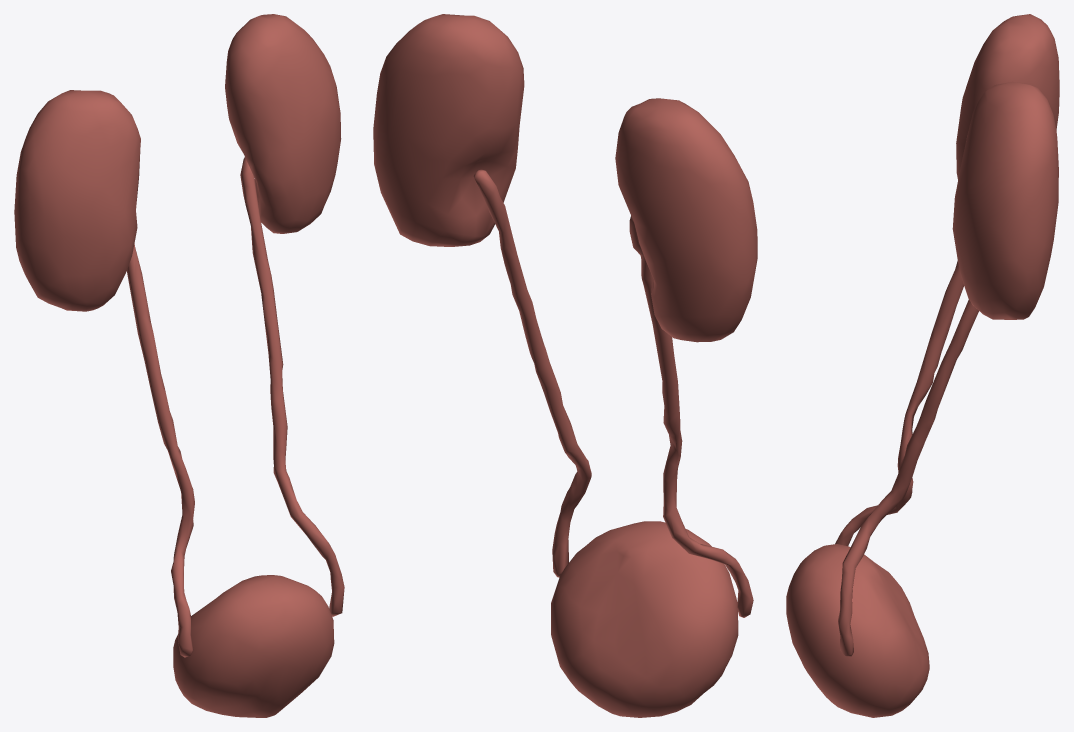
Rendered from pediatric_adolescent_female.urinary.LOD0.glb.
The picture shows the model from 3 angles, left to right: view 1: azimuth 30°, elevation 25°; view 2: azimuth 150°, elevation 25°; view 3: azimuth 270°, elevation 25°; orthographic projection. The views are drawn at different scales.
Parts seen in each view (by area): view 1: PEDIATRIC.ADOLESCENT.FEMALE.URINARY.KIDNEY_CORTEX.R, PEDIATRIC.ADOLESCENT.FEMALE.URINARY.KIDNEY_CORTEX.L, PEDIATRIC.ADOLESCENT.FEMALE.URINARY.URINARY_BLADDER_WALL, PEDIATRIC.ADOLESCENT.FEMALE.URINARY.URETER.L, PEDIATRIC.ADOLESCENT.FEMALE.URINARY.URETER.R; view 2: PEDIATRIC.ADOLESCENT.FEMALE.URINARY.URINARY_BLADDER_WALL, PEDIATRIC.ADOLESCENT.FEMALE.URINARY.KIDNEY_CORTEX.L, PEDIATRIC.ADOLESCENT.FEMALE.URINARY.KIDNEY_CORTEX.R, PEDIATRIC.ADOLESCENT.FEMALE.URINARY.URETER.L, PEDIATRIC.ADOLESCENT.FEMALE.URINARY.URETER.R; view 3: PEDIATRIC.ADOLESCENT.FEMALE.URINARY.KIDNEY_CORTEX.L, PEDIATRIC.ADOLESCENT.FEMALE.URINARY.URINARY_BLADDER_WALL, PEDIATRIC.ADOLESCENT.FEMALE.URINARY.KIDNEY_CORTEX.R, PEDIATRIC.ADOLESCENT.FEMALE.URINARY.URETER.L, PEDIATRIC.ADOLESCENT.FEMALE.URINARY.URETER.R.
Part boxes in pixels (x1,y1,x2,y2): PEDIATRIC.ADOLESCENT.FEMALE.URINARY.KIDNEY_CORTEX.R: (14, 90, 140, 311); PEDIATRIC.ADOLESCENT.FEMALE.URINARY.KIDNEY_CORTEX.L: (225, 14, 341, 233); PEDIATRIC.ADOLESCENT.FEMALE.URINARY.URINARY_BLADDER_WALL: (173, 575, 334, 717); PEDIATRIC.ADOLESCENT.FEMALE.URINARY.URETER.L: (240, 157, 344, 616); PEDIATRIC.ADOLESCENT.FEMALE.URINARY.URETER.R: (127, 243, 194, 657); PEDIATRIC.ADOLESCENT.FEMALE.URINARY.URINARY_BLADDER_WALL: (551, 521, 738, 717); PEDIATRIC.ADOLESCENT.FEMALE.URINARY.KIDNEY_CORTEX.L: (373, 14, 524, 246); PEDIATRIC.ADOLESCENT.FEMALE.URINARY.KIDNEY_CORTEX.R: (615, 98, 757, 342); PEDIATRIC.ADOLESCENT.FEMALE.URINARY.URETER.L: (473, 169, 591, 577); PEDIATRIC.ADOLESCENT.FEMALE.URINARY.URETER.R: (629, 216, 753, 617); PEDIATRIC.ADOLESCENT.FEMALE.URINARY.KIDNEY_CORTEX.L: (952, 81, 1058, 319); PEDIATRIC.ADOLESCENT.FEMALE.URINARY.URINARY_BLADDER_WALL: (786, 544, 929, 717); PEDIATRIC.ADOLESCENT.FEMALE.URINARY.KIDNEY_CORTEX.R: (956, 14, 1059, 179); PEDIATRIC.ADOLESCENT.FEMALE.URINARY.URETER.L: (838, 299, 978, 656); PEDIATRIC.ADOLESCENT.FEMALE.URINARY.URETER.R: (835, 261, 963, 545).
Size of the model in its own units: 0.1717 by 0.3181 by 0.1183.
